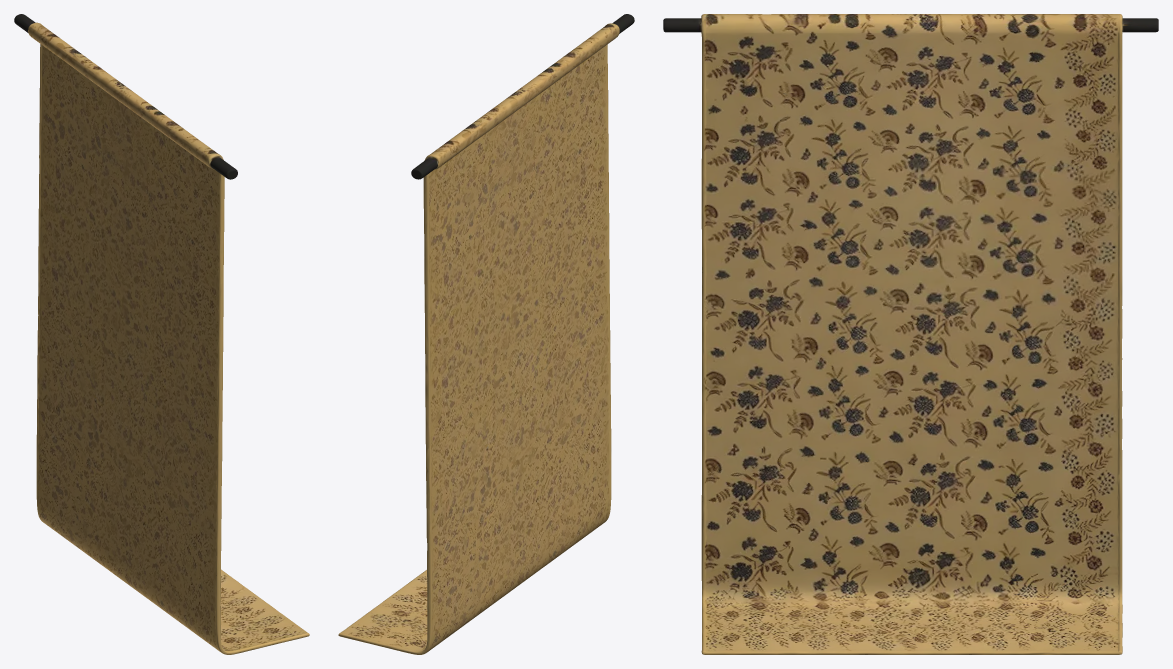
File: Batik_Kartini-v2.glb
3 renders of one model, left to right at view 1: azimuth 30°, elevation 25°; view 2: azimuth 150°, elevation 25°; view 3: azimuth 270°, elevation 25°, orthographic. The views are drawn at different scales.
Visible parts, largest first — view 1: tripo_node_3f227175-44e5-4dbe-bdd0-7f3b9a618a1f; view 2: tripo_node_3f227175-44e5-4dbe-bdd0-7f3b9a618a1f; view 3: tripo_node_3f227175-44e5-4dbe-bdd0-7f3b9a618a1f.
Boxes of the visible parts, x1,y1,x2,y2 form: tripo_node_3f227175-44e5-4dbe-bdd0-7f3b9a618a1f: [14, 14, 309, 654]; tripo_node_3f227175-44e5-4dbe-bdd0-7f3b9a618a1f: [338, 14, 634, 654]; tripo_node_3f227175-44e5-4dbe-bdd0-7f3b9a618a1f: [663, 14, 1158, 654].
Size of the model in its own units: 0.2063 by 0.9789 by 0.749.
Materials: 1 (1 with a texture image).
